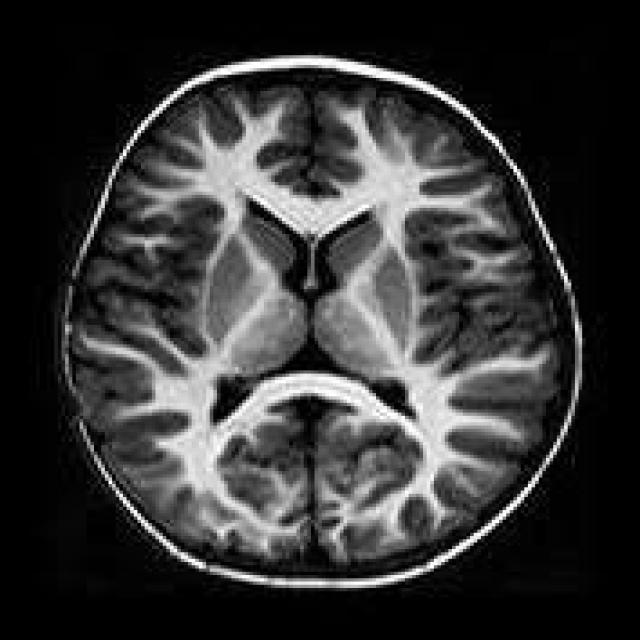notumor: (54, 58, 586, 595)
